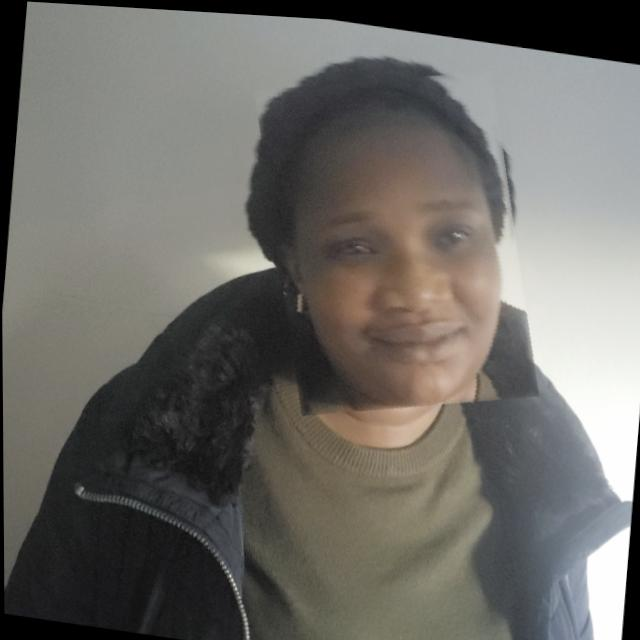sad: (244, 46, 549, 431)
